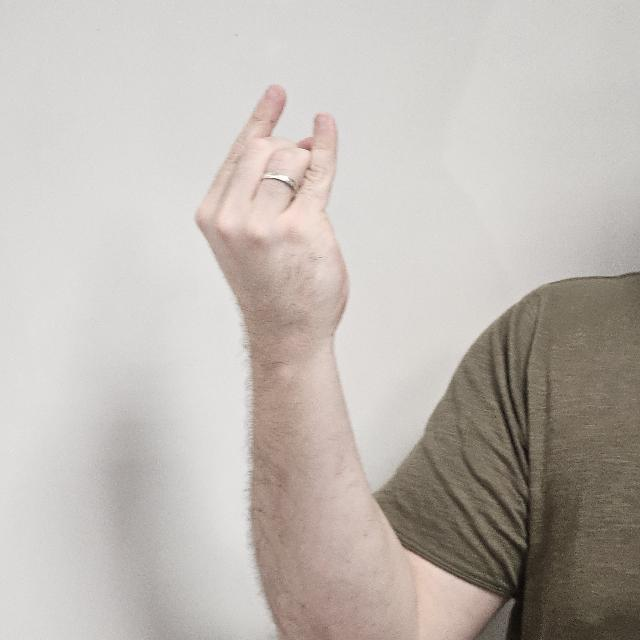L: (192, 81, 356, 355)
